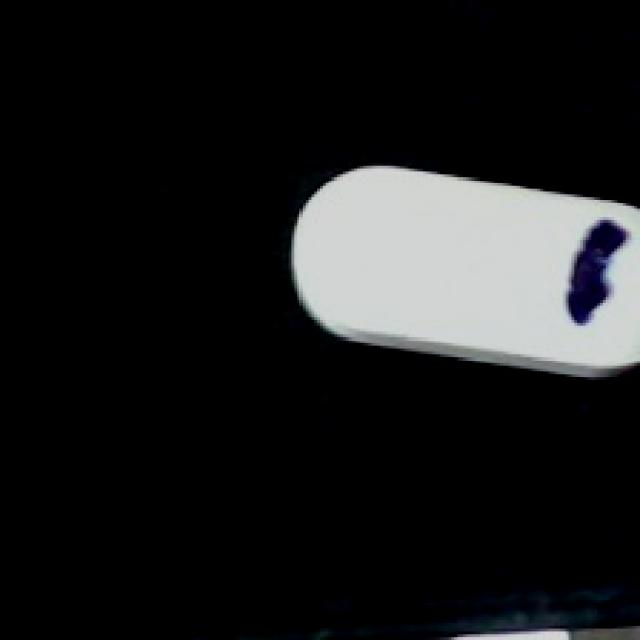defected: (283, 166, 640, 380)
